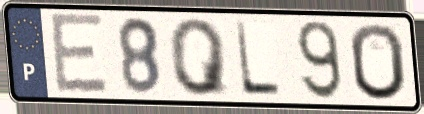8: (116, 15, 162, 97)
9: (293, 18, 345, 102)
E: (47, 10, 112, 97)
L: (232, 19, 284, 99)
O: (347, 20, 409, 103)
Q: (167, 16, 233, 99)
